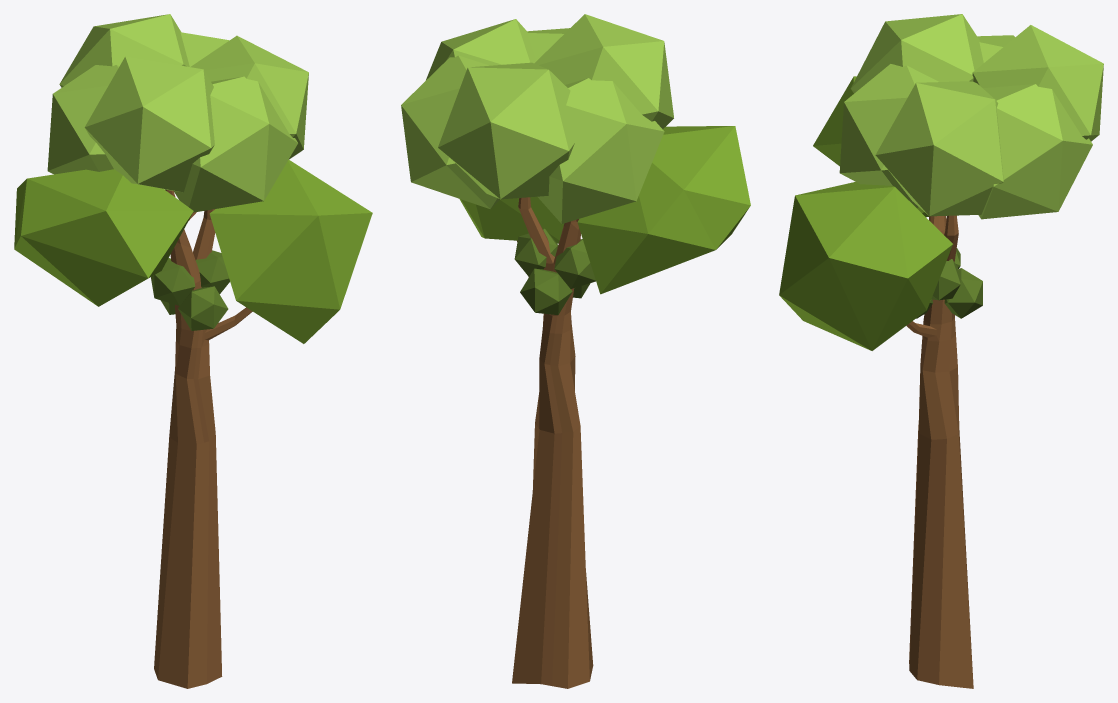
File: Laubbaum III.fbx
3 renders of one model, left to right at view 1: azimuth 30°, elevation 25°; view 2: azimuth 150°, elevation 25°; view 3: azimuth 270°, elevation 25°, orthographic. The views are drawn at different scales.
Parts seen in each view (by area): view 1: Stamm, Platonischer_Körper_2, Platonischer_Körper, Platonischer_Körper_3, Platonischer_Körper_4, Platonischer_Körper_5, Platonischer_Körper_2_2, Platonischer_Körper_1, Platonischer_Körper_2_3, Platonischer_Körper_1_2, Platonischer_Körper_3_2, Platonischer_Körper_6; view 2: Stamm, Platonischer_Körper, Platonischer_Körper_1, Platonischer_Körper_2_2, Platonischer_Körper_3, Platonischer_Körper_6, Platonischer_Körper_5, Platonischer_Körper_2, Platonischer_Körper_4_2, Platonischer_Körper_1_2, Platonischer_Körper_3_2, Platonischer_Körper_4; view 3: Platonischer_Körper_2, Stamm, Platonischer_Körper_5, Platonischer_Körper_6, Platonischer_Körper_1, Platonischer_Körper_3, Platonischer_Körper_4, Platonischer_Körper, Platonischer_Körper_4_2, Platonischer_Körper_3_2, Platonischer_Körper_2_2.
Boxes of the visible parts, x1,y1,x2,y2 form: Stamm: (154,189,252,688); Platonischer_Körper_2: (209,159,372,343); Platonischer_Körper: (14,169,193,306); Platonischer_Körper_3: (84,56,214,192); Platonischer_Körper_4: (174,76,297,212); Platonischer_Körper_5: (190,35,308,159); Platonischer_Körper_2_2: (47,65,119,174); Platonischer_Körper_1: (59,14,189,87); Platonischer_Körper_2_3: (178,286,228,330); Platonischer_Körper_1_2: (151,258,195,305); Platonischer_Körper_3_2: (195,250,229,293); Platonischer_Körper_6: (180,32,229,66); Stamm: (512,197,593,688); Platonischer_Körper: (577,126,750,294); Platonischer_Körper_1: (438,62,574,199); Platonischer_Körper_2_2: (537,78,664,223); Platonischer_Körper_3: (534,14,673,129); Platonischer_Körper_6: (401,55,499,209); Platonischer_Körper_5: (426,19,536,79); Platonischer_Körper_2: (459,196,564,243); Platonischer_Körper_4_2: (520,268,572,315); Platonischer_Körper_1_2: (554,239,595,288); Platonischer_Körper_3_2: (514,228,558,276); Platonischer_Körper_4: (527,28,569,60); Platonischer_Körper_2: (779,182,952,350); Stamm: (906,215,973,688); Platonischer_Körper_5: (875,81,1003,216); Platonischer_Körper_6: (978,84,1092,219); Platonischer_Körper_1: (972,25,1103,141); Platonischer_Körper_3: (850,14,983,93); Platonischer_Körper_4: (839,64,938,208); Platonischer_Körper: (813,76,928,217); Platonischer_Körper_4_2: (944,268,982,318); Platonischer_Körper_3_2: (931,259,960,300); Platonischer_Körper_2_2: (977,35,1015,62).
Bounding box in the file's own units: 1295 × 2479 × 1150.
